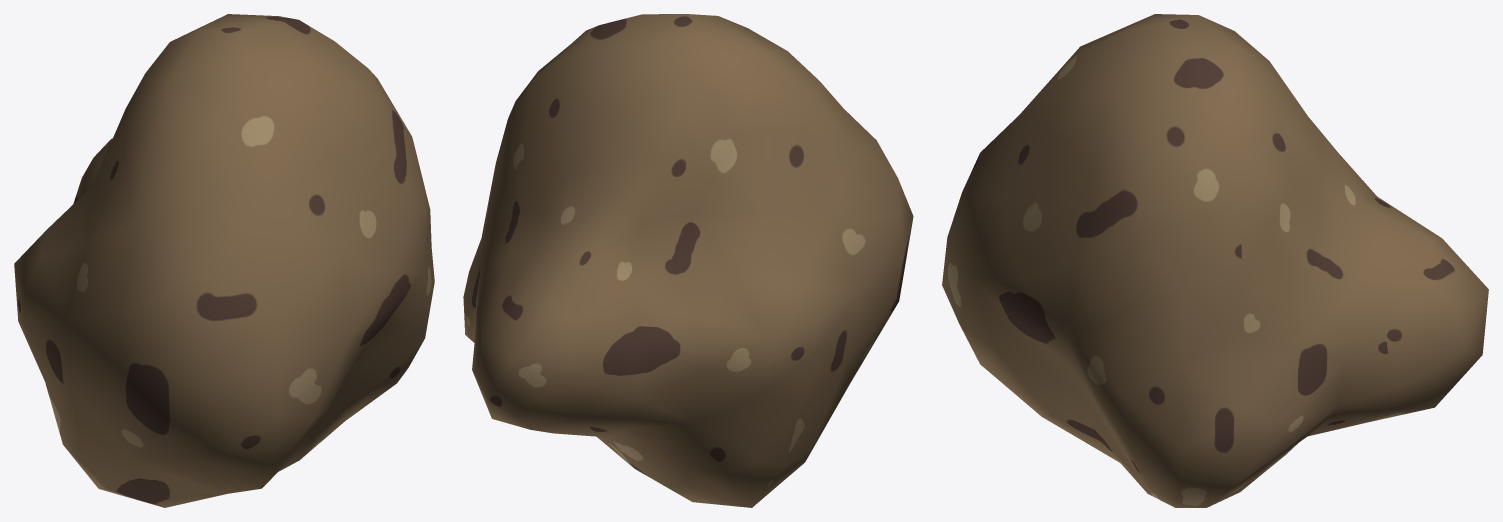
File: Rock02.fbx
3 renders of one model, left to right at view 1: azimuth 30°, elevation 25°; view 2: azimuth 150°, elevation 25°; view 3: azimuth 270°, elevation 25°, orthographic. The views are drawn at different scales.
Parts seen in each view (by area): view 1: Icosphere.001; view 2: Icosphere.001; view 3: Icosphere.001.
Boxes of the visible parts, x1,y1,x2,y2 form: Icosphere.001: [14, 14, 434, 507]; Icosphere.001: [463, 14, 913, 507]; Icosphere.001: [942, 14, 1488, 507].
Size of the model in its own units: 0.2237 by 0.2678 by 0.2746.
